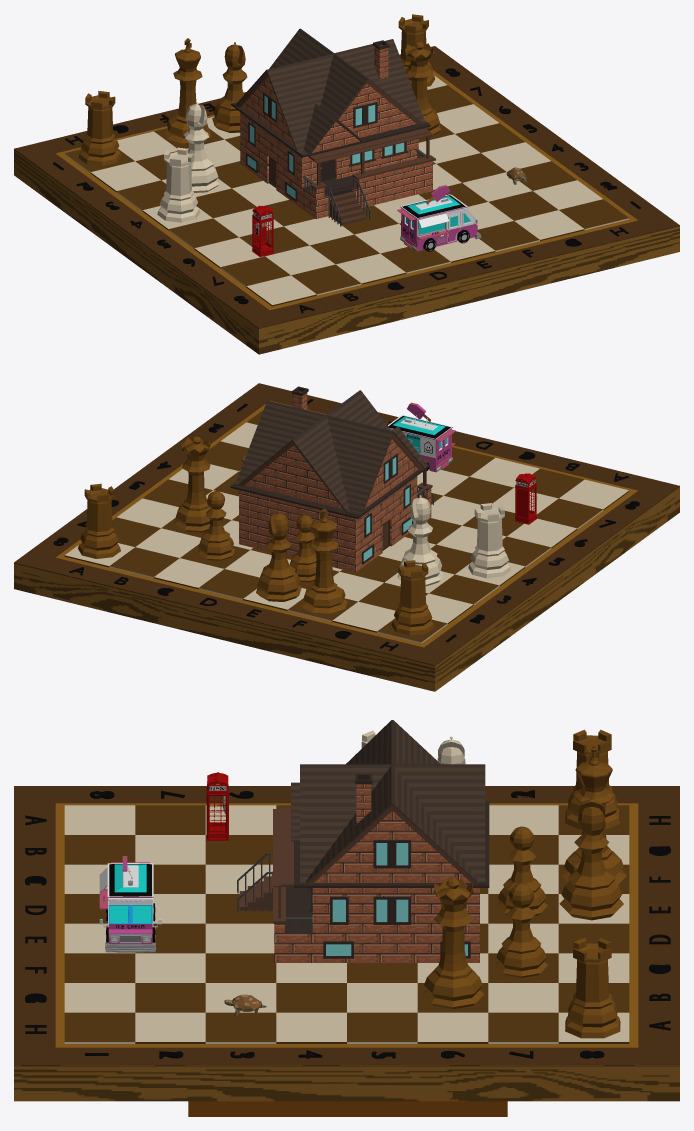
3 views of the same model, one above another, from view 1: azimuth 30°, elevation 25°; view 2: azimuth 150°, elevation 25°; view 3: azimuth 270°, elevation 25° (orthographic). The views are drawn at different scales.
Parts seen in each view (by area): view 1: Cube.002, Cube.469, VEHICLES_ICE_CREAM_TRUCK, OBJRANDOM_PHONEBOOTH; view 2: Cube.002, Cube.469, VEHICLES_ICE_CREAM_TRUCK, OBJRANDOM_PHONEBOOTH; view 3: Cube.002, Cube.469, UNDERGROUND_ART_PIECE_VAN_GOGH, VEHICLES_ICE_CREAM_TRUCK, OBJRANDOM_PHONEBOOTH.
Part boxes in pixels (x1,y1,x2,y2): Cube.002: [14, 14, 679, 354]; Cube.469: [231, 28, 435, 226]; VEHICLES_ICE_CREAM_TRUCK: [397, 185, 481, 251]; OBJRANDOM_PHONEBOOTH: [252, 205, 273, 256]; Cube.002: [14, 383, 679, 691]; Cube.469: [230, 386, 433, 572]; VEHICLES_ICE_CREAM_TRUCK: [388, 402, 455, 472]; OBJRANDOM_PHONEBOOTH: [515, 473, 537, 524]; Cube.002: [14, 729, 679, 1101]; Cube.469: [237, 720, 489, 962]; UNDERGROUND_ART_PIECE_VAN_GOGH: [188, 1101, 507, 1116]; VEHICLES_ICE_CREAM_TRUCK: [99, 856, 161, 952]; OBJRANDOM_PHONEBOOTH: [206, 772, 228, 840].
Size of the model in its own units: 3981 by 1610 by 4012.
49 materials, 4 textured.
